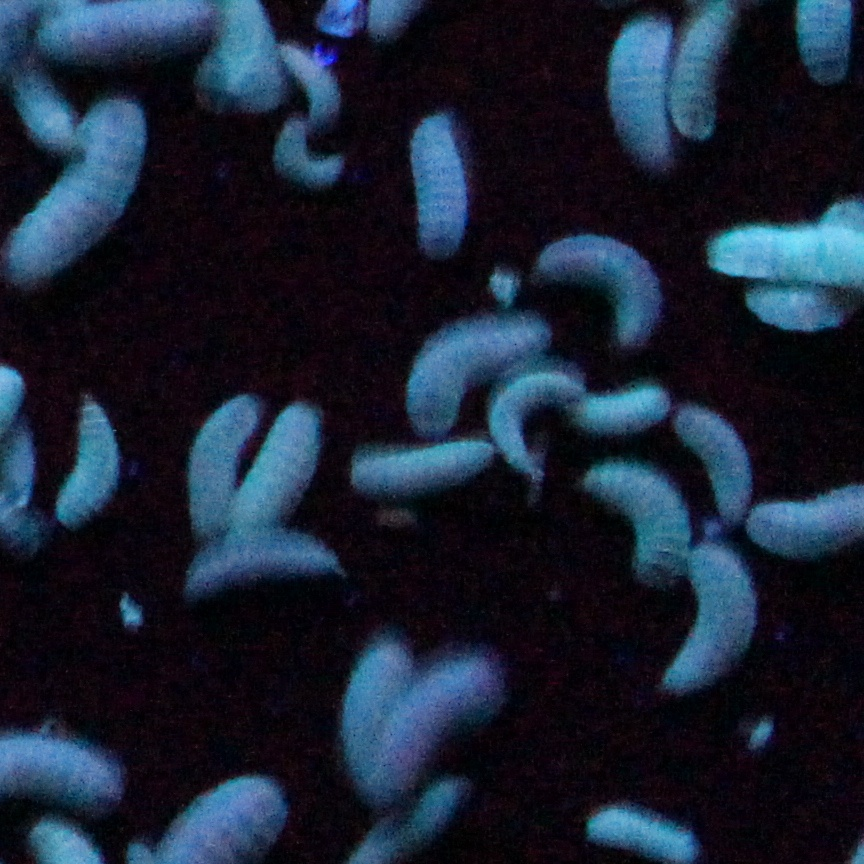larve: (10, 97, 150, 286), (388, 640, 497, 791), (404, 320, 546, 433), (662, 540, 759, 693), (577, 457, 693, 580), (542, 231, 657, 340), (177, 395, 266, 535), (244, 397, 324, 542), (177, 528, 342, 597), (344, 642, 415, 802), (406, 111, 477, 257), (675, 402, 757, 524), (610, 22, 673, 175), (59, 393, 119, 528), (497, 371, 570, 480), (359, 437, 495, 491), (582, 804, 695, 864), (273, 120, 348, 186), (577, 386, 675, 431), (284, 43, 342, 118)
